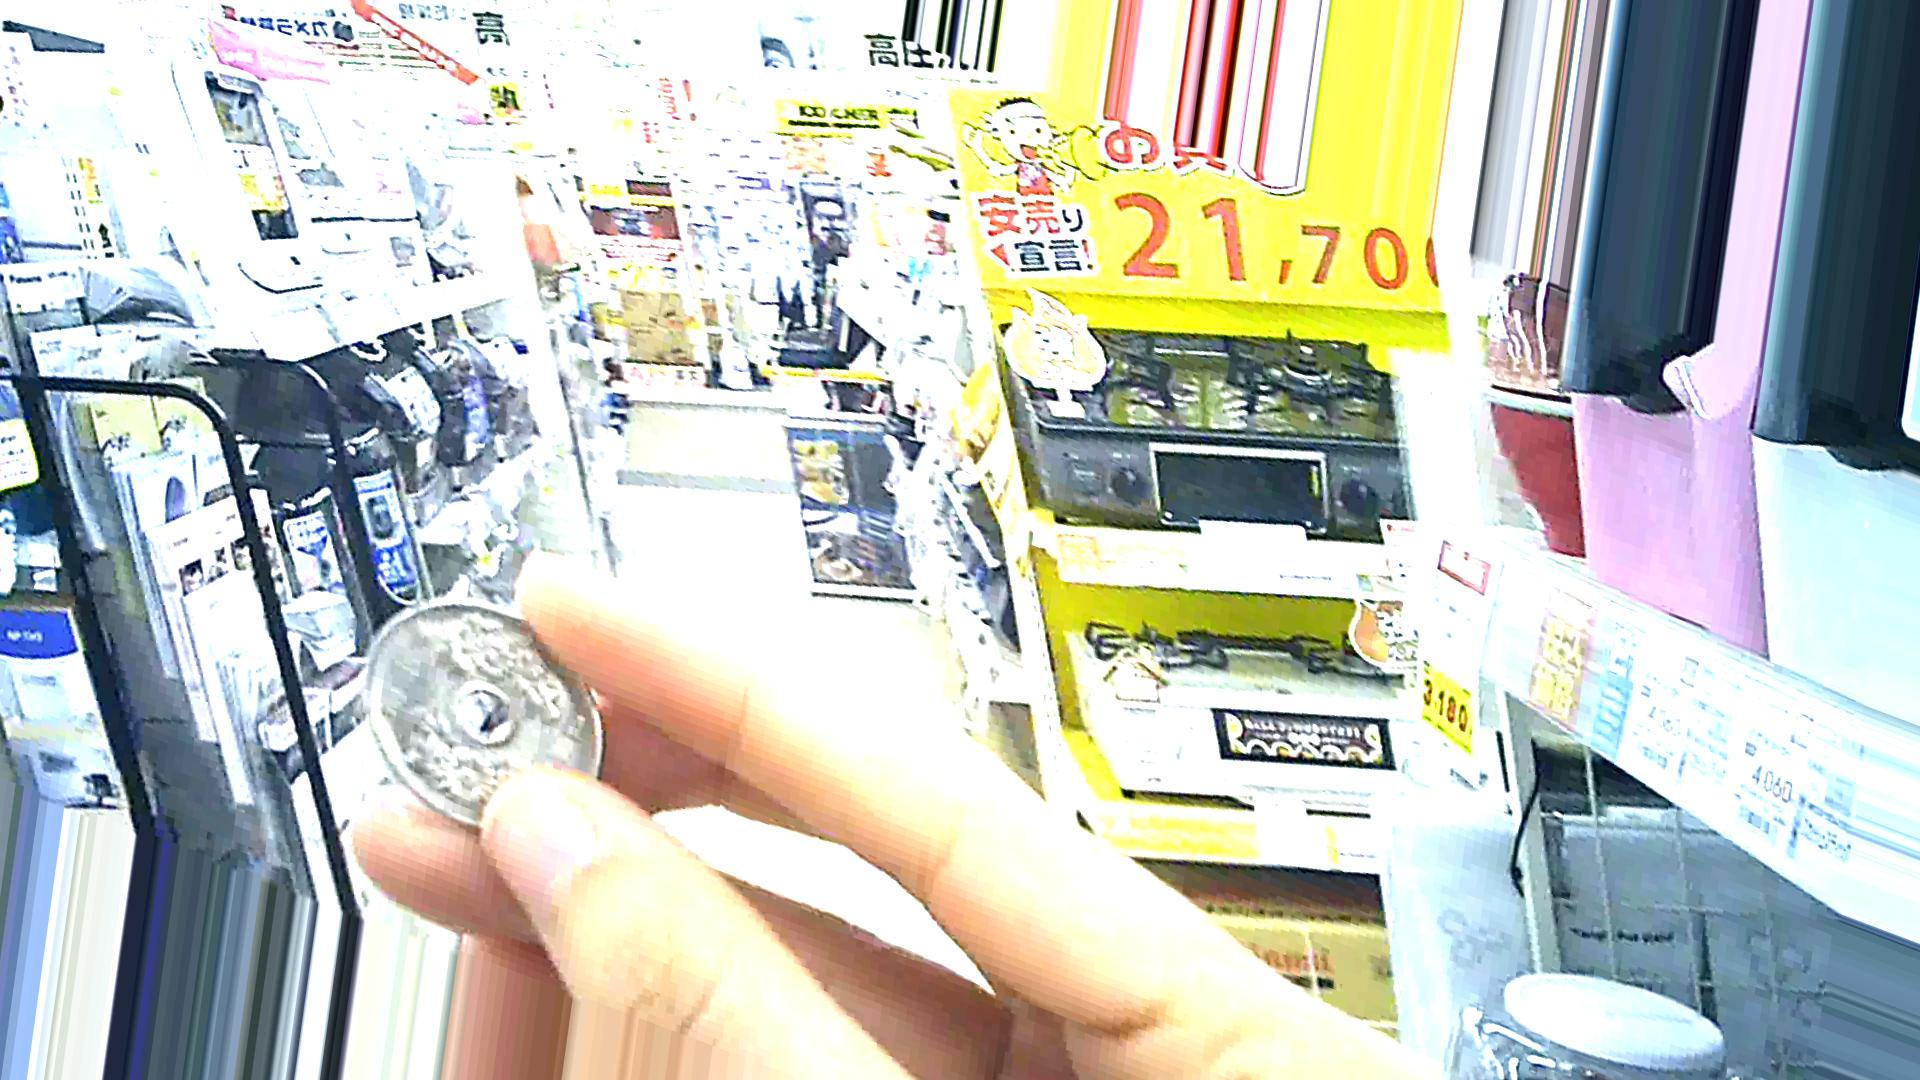50 Yen: (344, 597, 620, 829)
